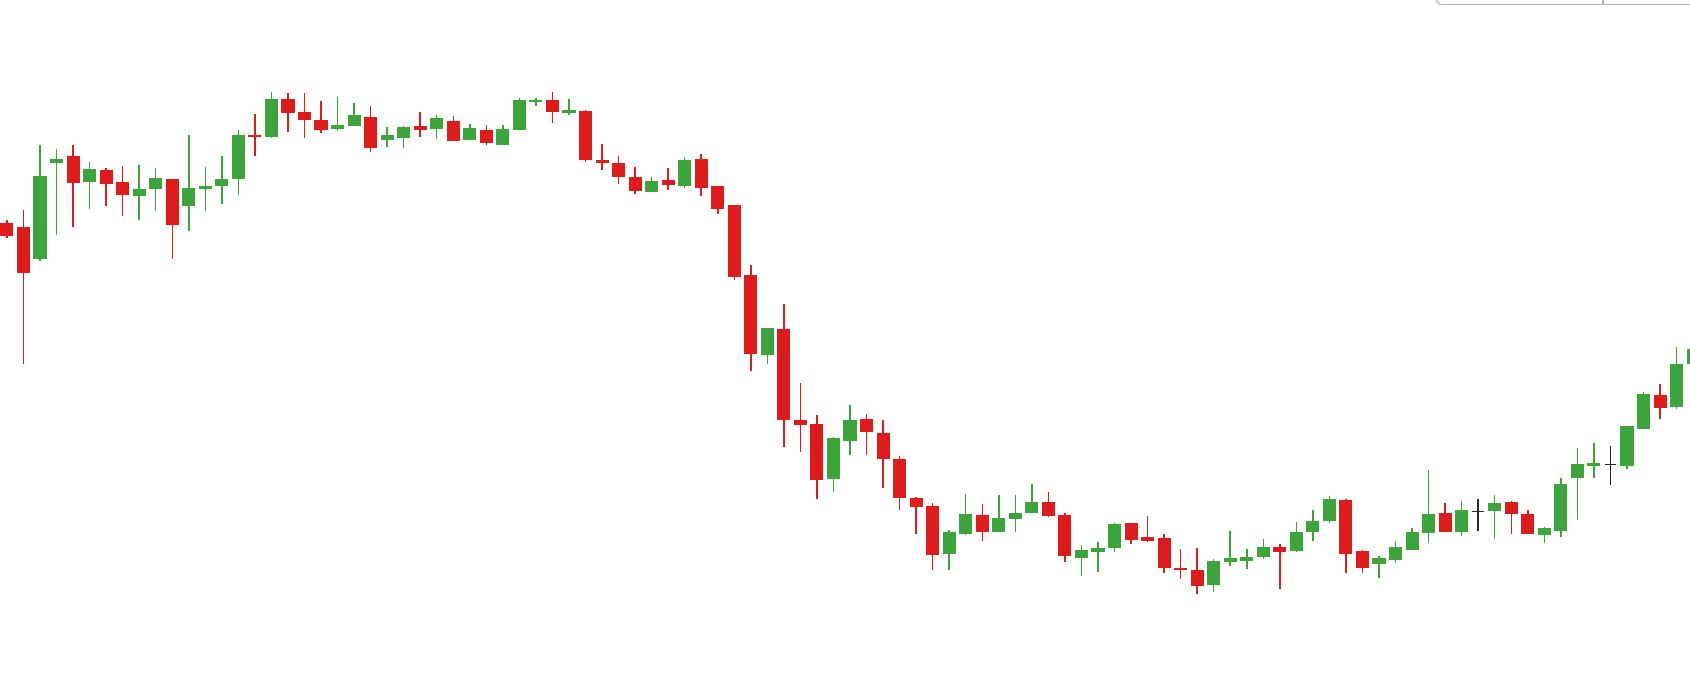buy: (1076, 536, 1222, 600)
